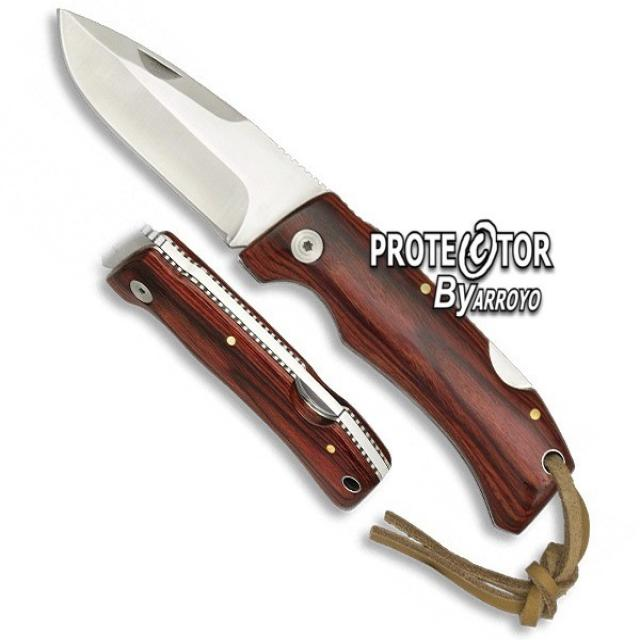knife: (53, 5, 578, 531)
